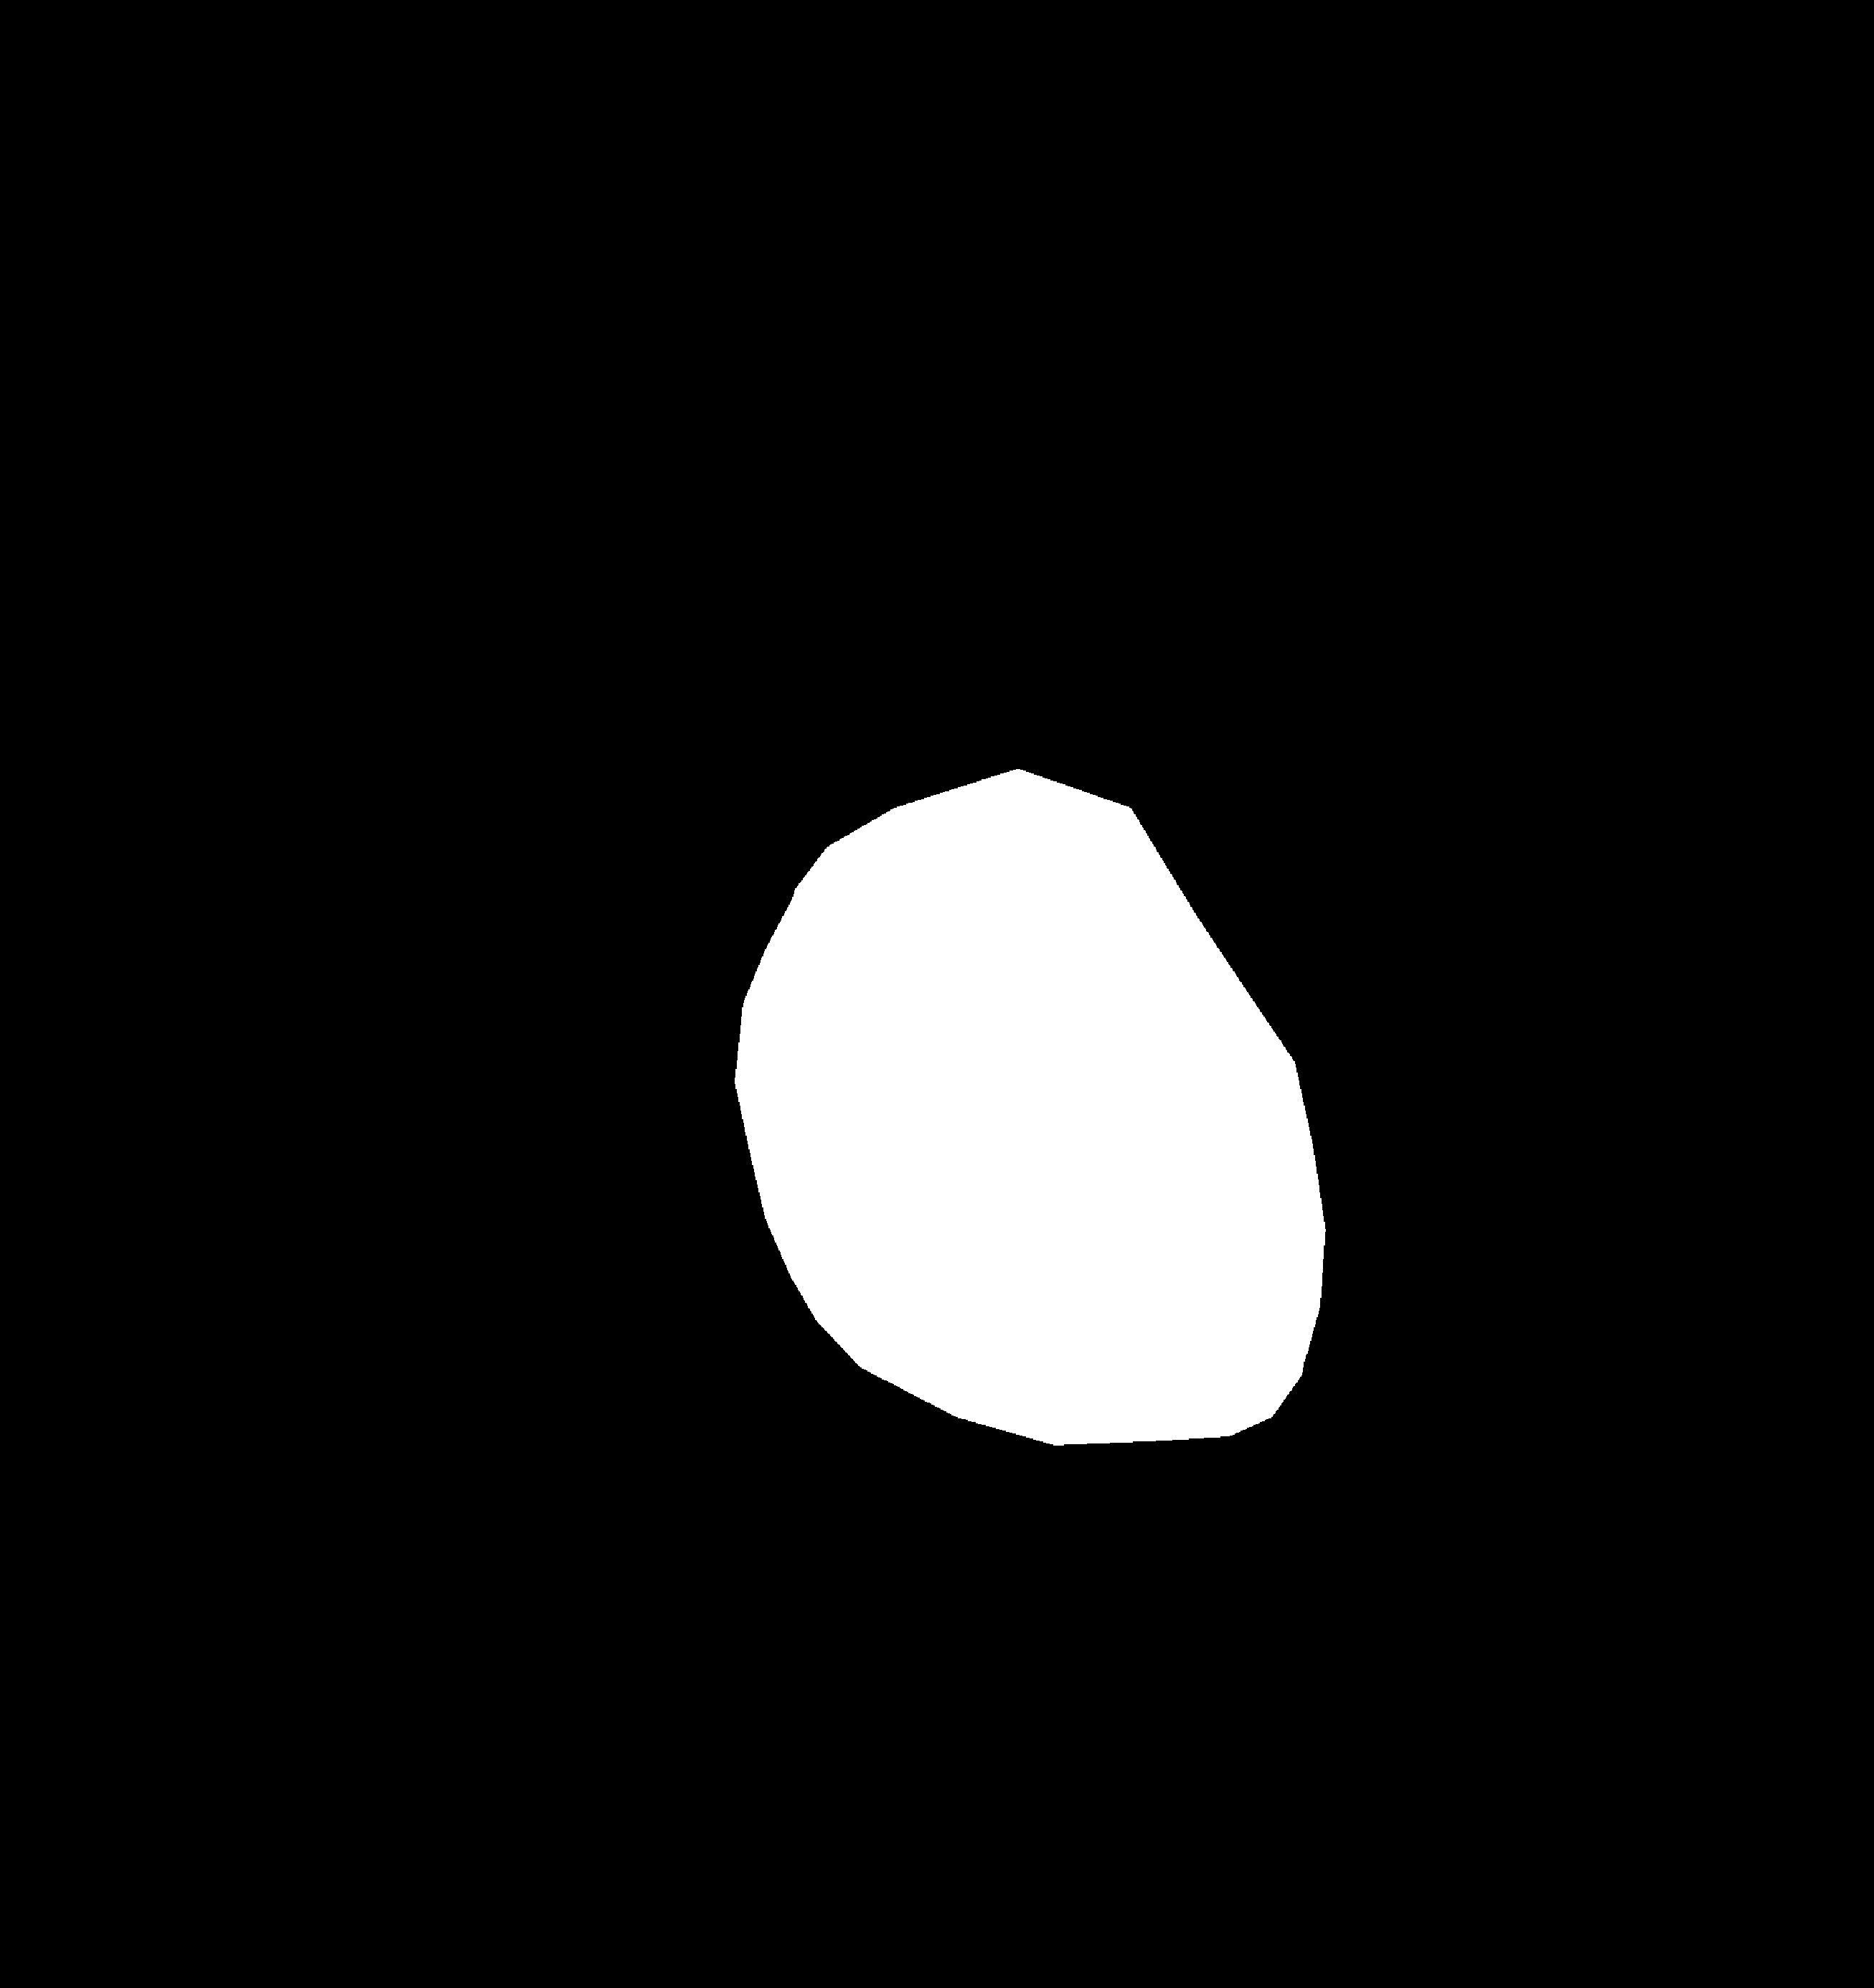heart: (738, 856, 1326, 1440)
left_lung: (192, 162, 893, 1638)
right_lung: (1059, 155, 1684, 1713)
